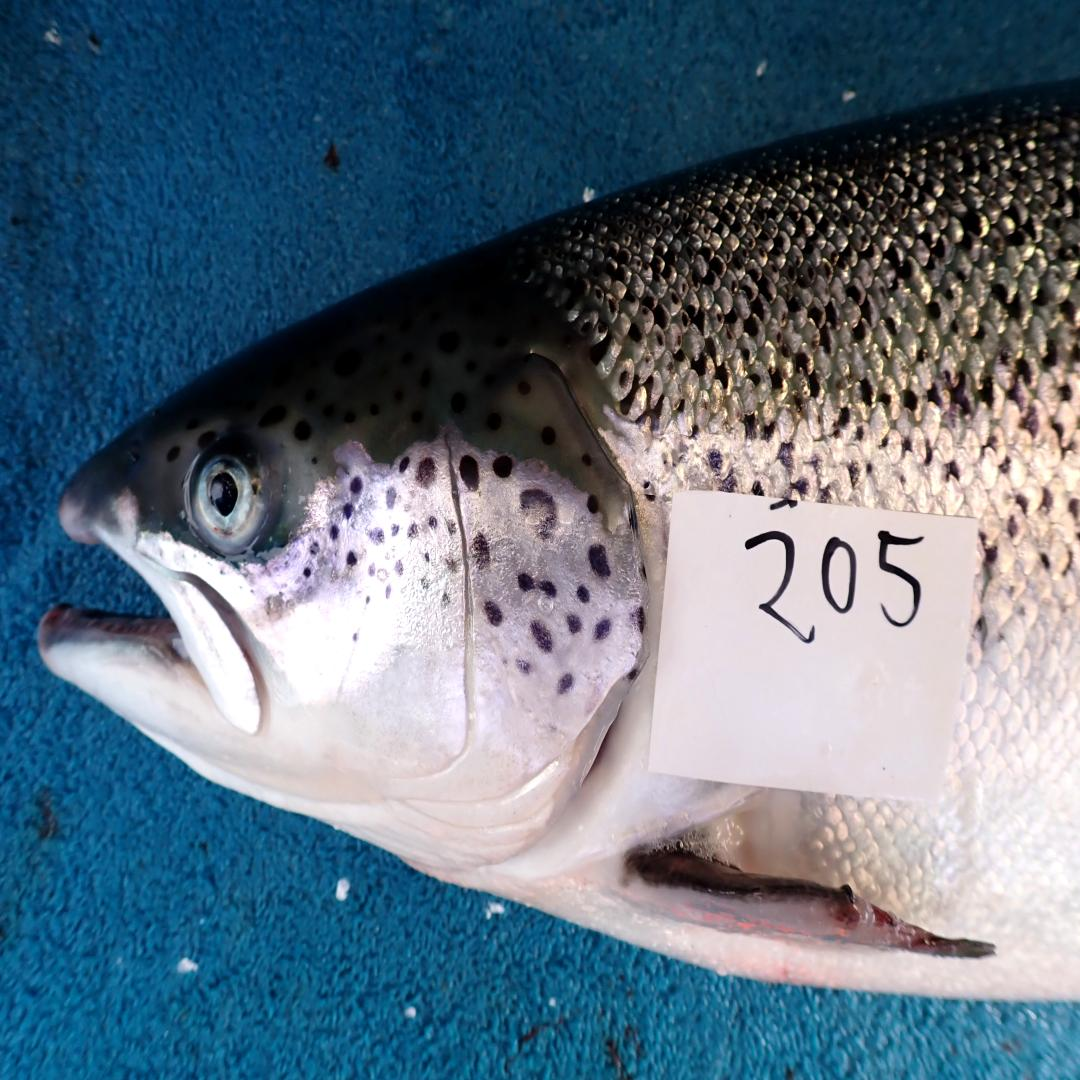roi: (264, 426, 651, 880)
